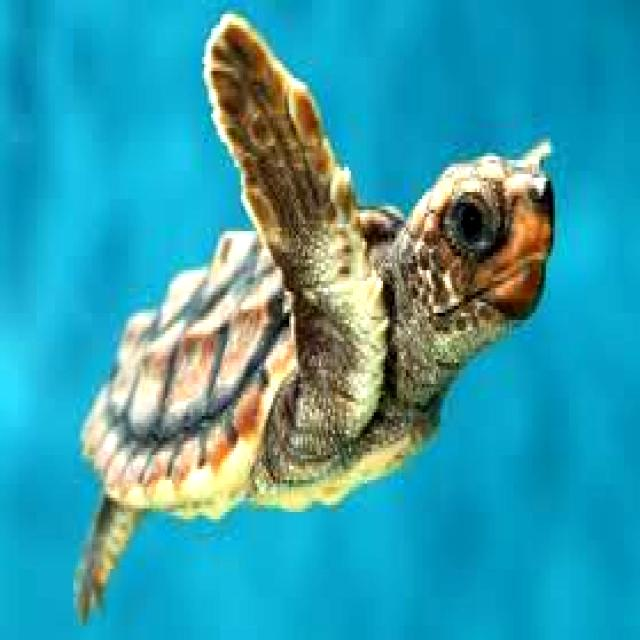Sea turtle: (56, 2, 582, 631)
